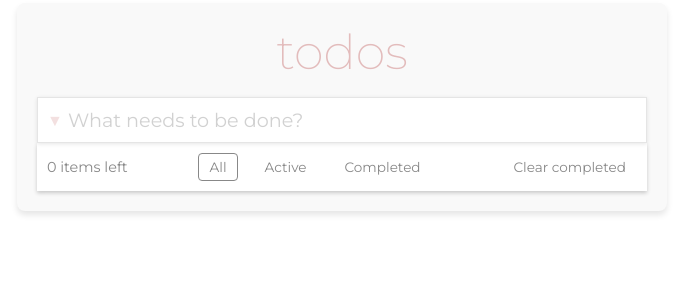
Test case: Todo App › adds a new todo
Type "Test Todo" into the field with placeholder "What needs to be done?" at (342, 120), box [37,97,647,143]
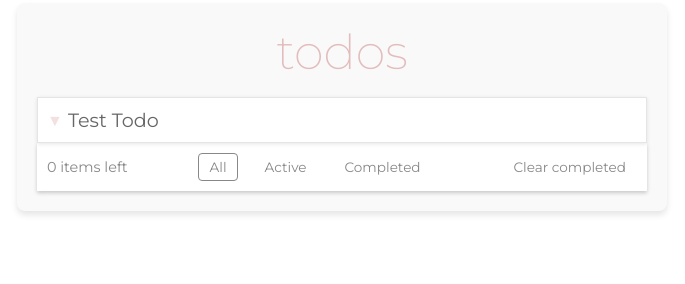
Submit the form from the field with placeholder "What needs to be done?", box [37,97,647,143]
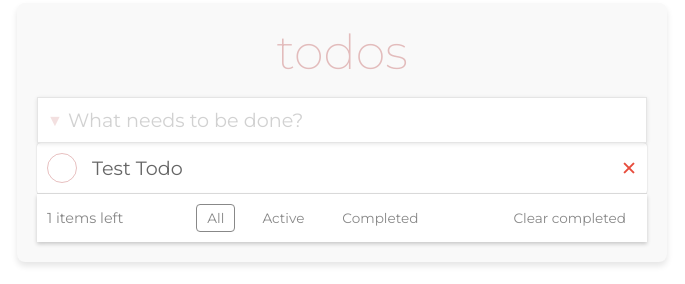
Check: the text "Test Todo" is shown, box [92,156,183,180]
